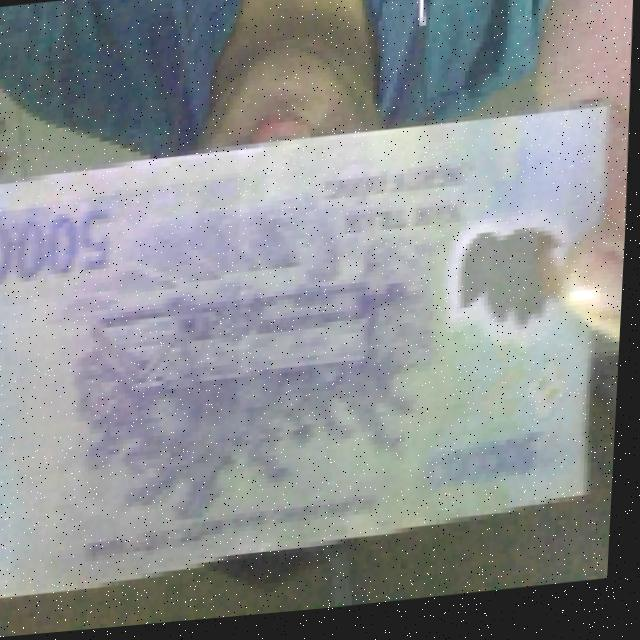500 000 VND: (0, 110, 626, 609)
